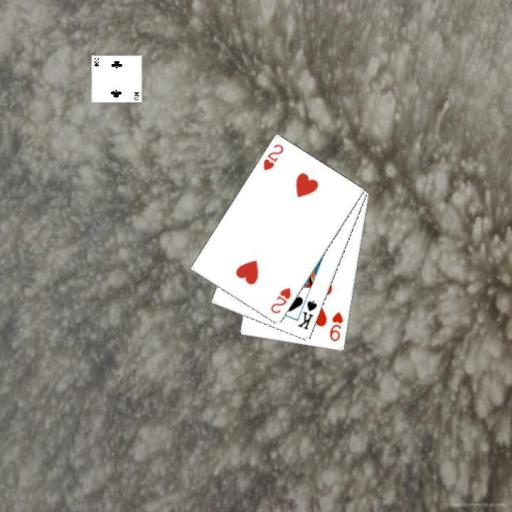2H: (268, 284, 293, 316), (260, 141, 285, 173)
9H: (326, 309, 345, 343)
KS: (295, 298, 319, 332)
